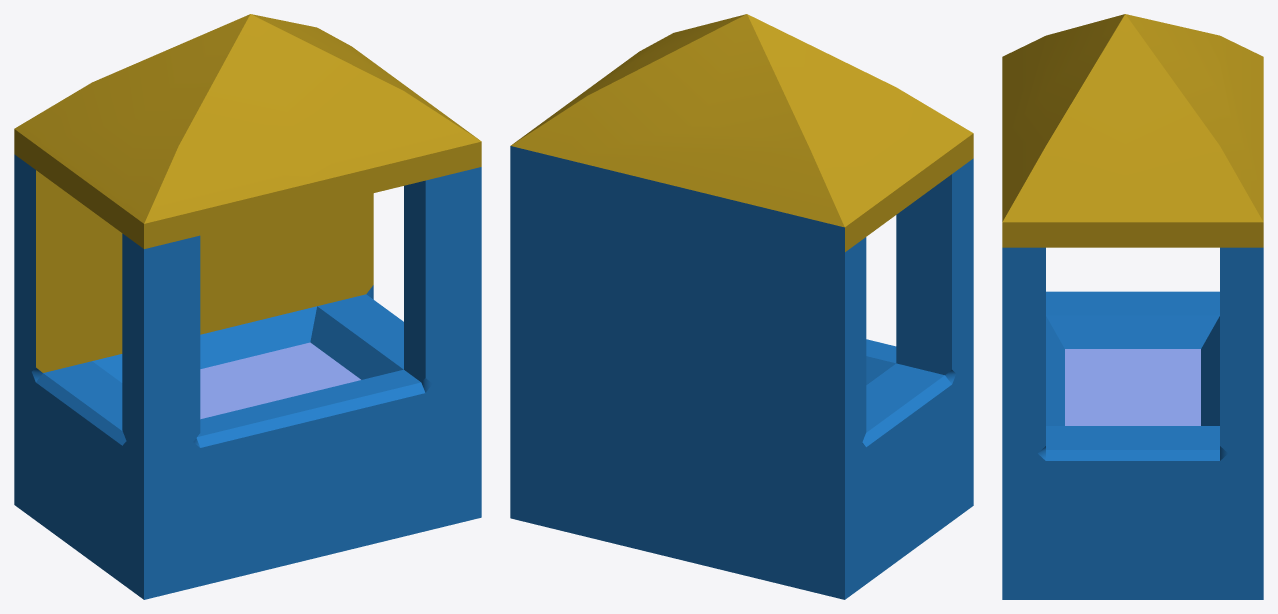
The model's file is Duck Stall Textured.FBX.
3 views of the same model, side by side, from view 1: azimuth 30°, elevation 25°; view 2: azimuth 150°, elevation 25°; view 3: azimuth 270°, elevation 25° (orthographic).
Visible parts, largest first — view 1: Duck Stall; view 2: Duck Stall; view 3: Duck Stall.
Part boxes in pixels (left/top/right/bottom): Duck Stall: left=14, top=14, right=481, bottom=599; Duck Stall: left=510, top=14, right=973, bottom=599; Duck Stall: left=1002, top=14, right=1263, bottom=599.
Bounding box in the file's own units: 60 × 84.96 × 40.
3 materials, 3 textured.
